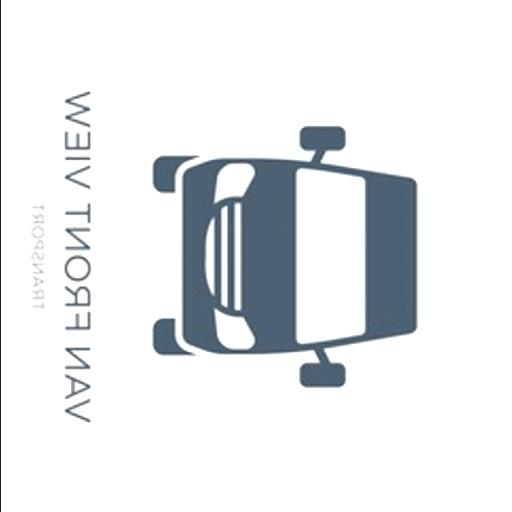van: (154, 129, 417, 386)
